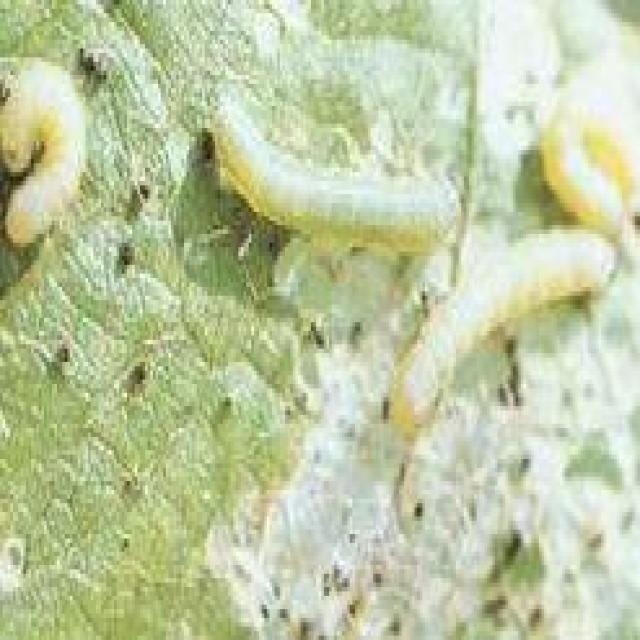BeetArmyWorm-Larva-: (397, 222, 628, 436), (205, 85, 464, 260), (3, 54, 99, 280)
